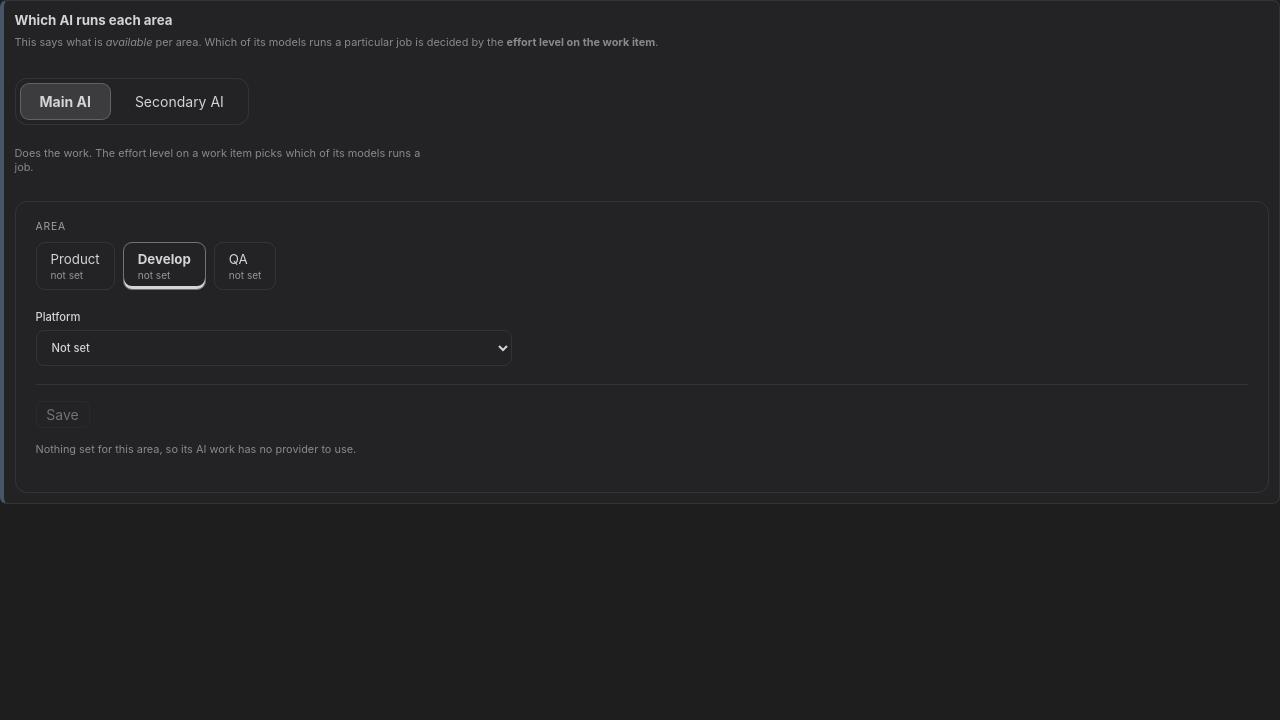
Test case: AiRouting › says a Secondary is absent and what that costs, without implying it is missing
Click the tab "Secondary AI". click: (179,101)
box: [115, 82, 244, 120]
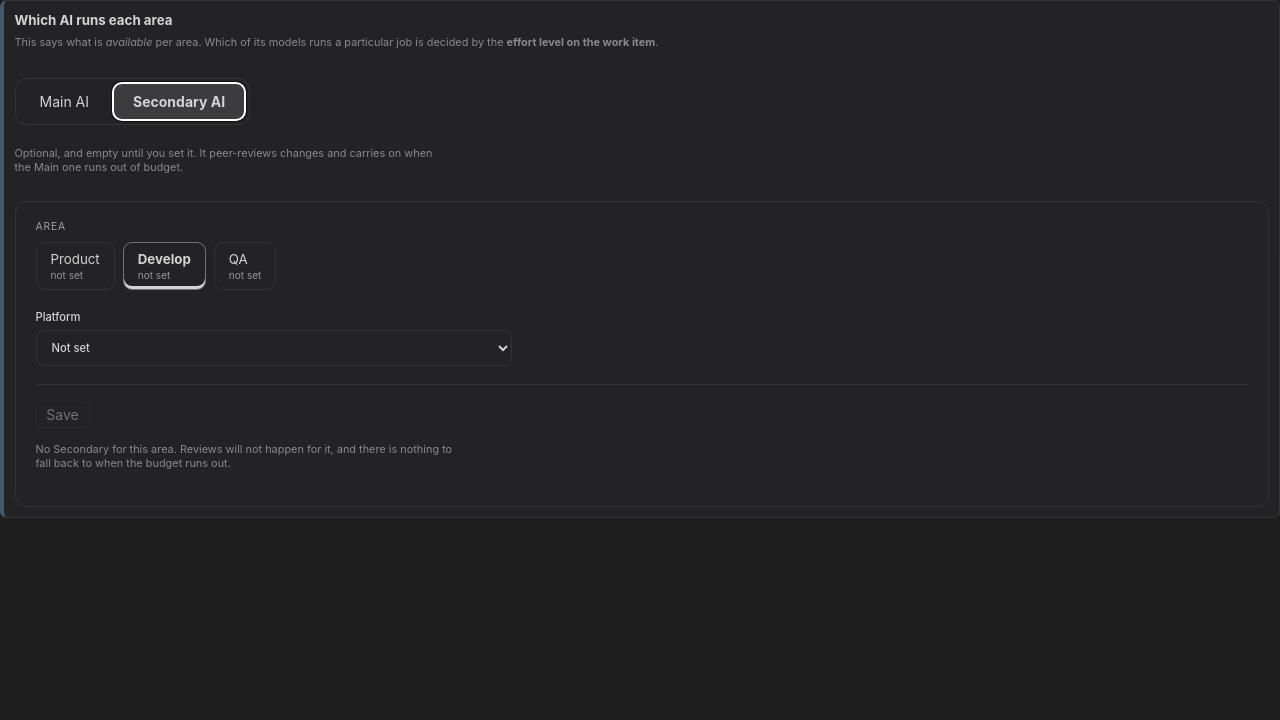
Expected: the text "Reviews will not happen for it" is shown, [36, 442, 452, 470]
